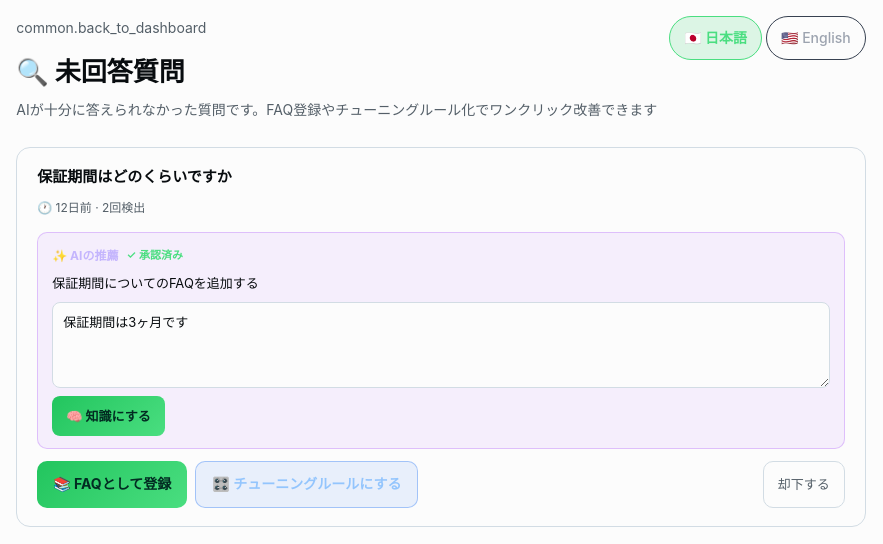
Test: KnowledgeGapsPage — 承認と知識化 › 承認済みギャップで「知識にする」を押すと POST /add-knowledge が回答案付きで送られ、成功後に一覧から消える
Click the button "🧠 知識にする".
click(108, 416)  # box [52,396,165,436]
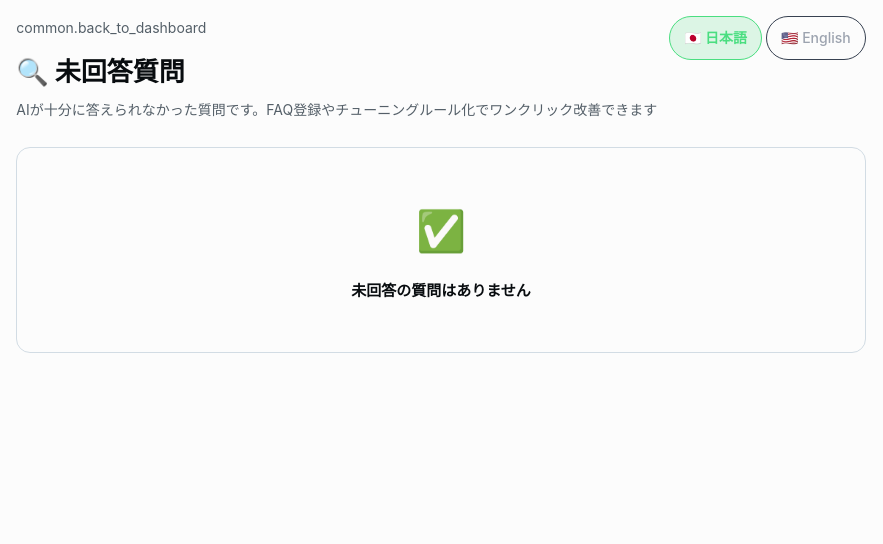
Result: the text "保証期間はどのくらいですか" is gone
